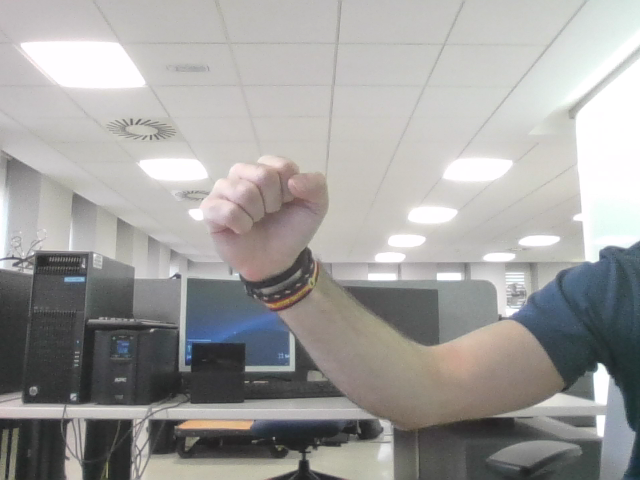Puño: (212, 166, 311, 238)
